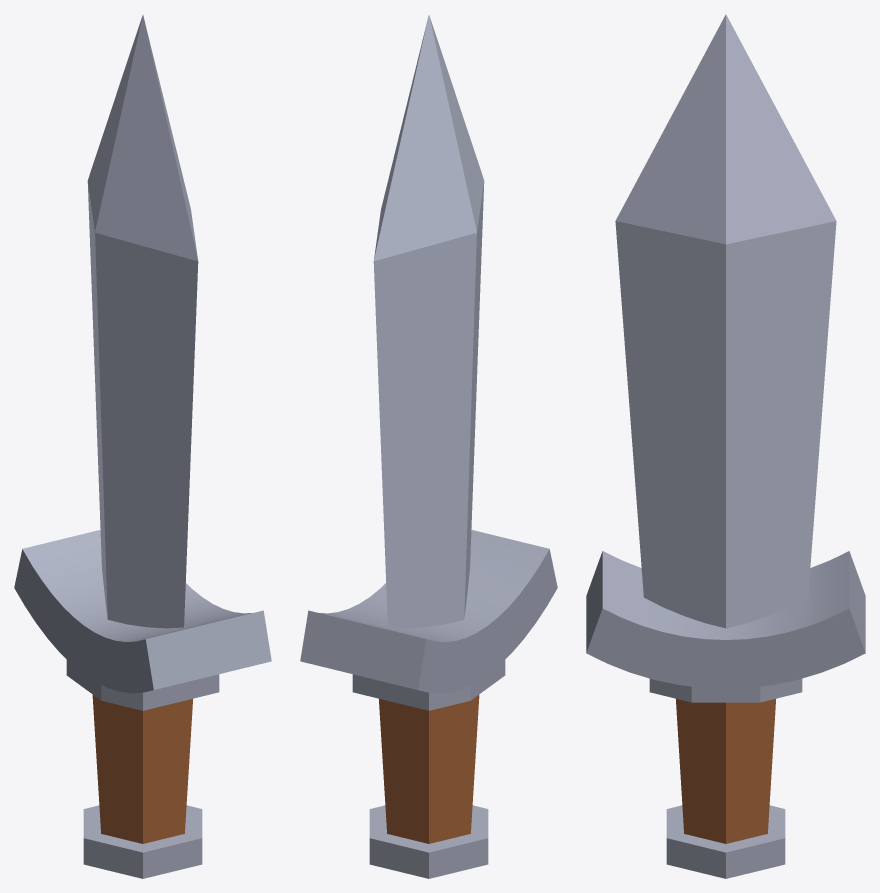
The model's file is sword.glb.
3 views of the same model, side by side, from view 1: azimuth 30°, elevation 25°; view 2: azimuth 150°, elevation 25°; view 3: azimuth 270°, elevation 25° (orthographic).
Parts seen in each view (by area): view 1: sword; view 2: sword; view 3: sword.
Boxes of the visible parts, <box> form: sword: <box>14,15,271,878</box>; sword: <box>300,15,557,878</box>; sword: <box>586,14,865,878</box>.
Bounding box in the file's own units: 0.0795 × 0.5346 × 0.1619.
